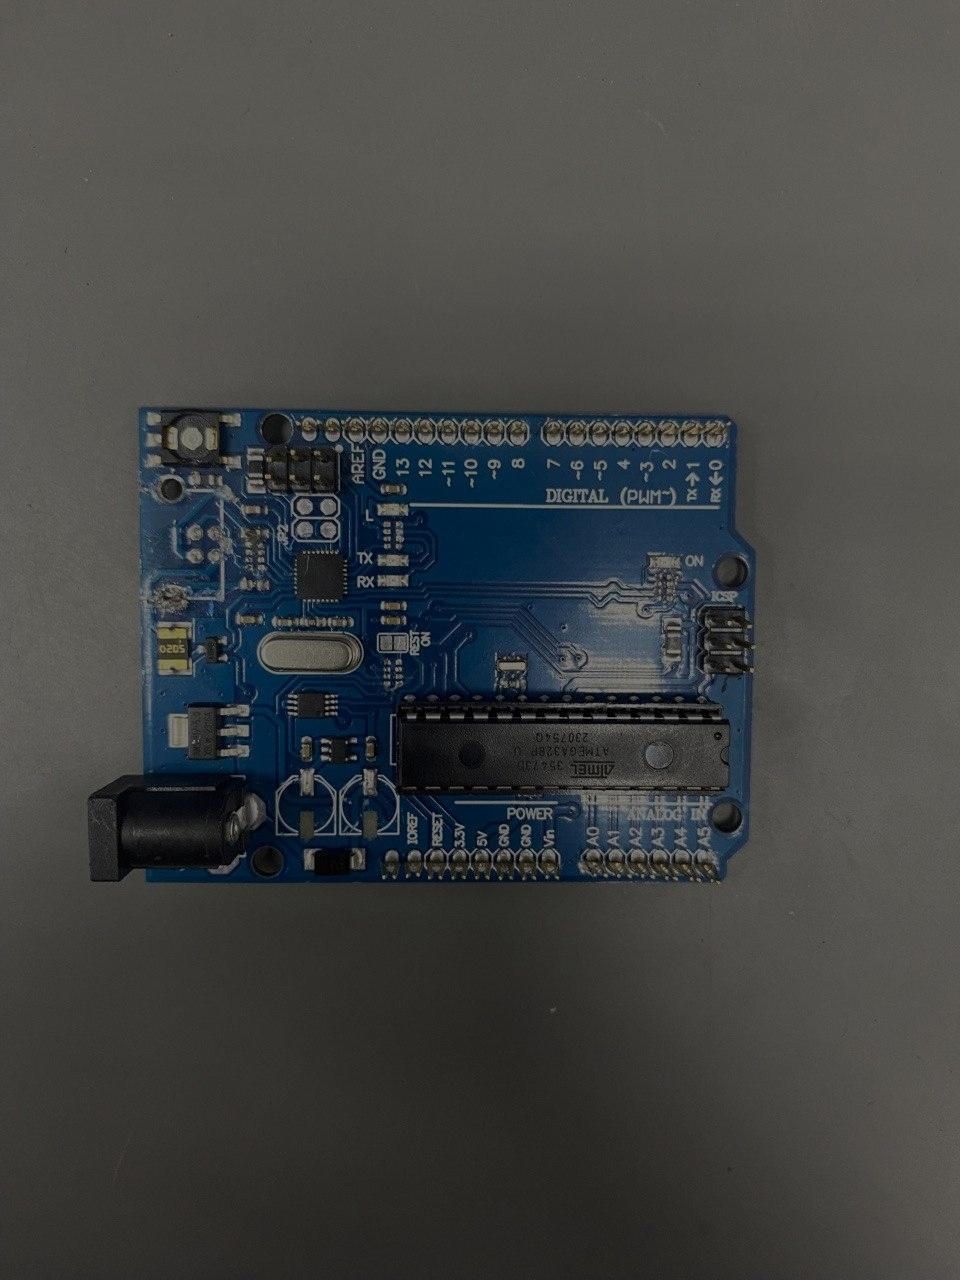ATmega328 chip: (396, 700, 730, 797)
Arduino board: (88, 406, 758, 887)
